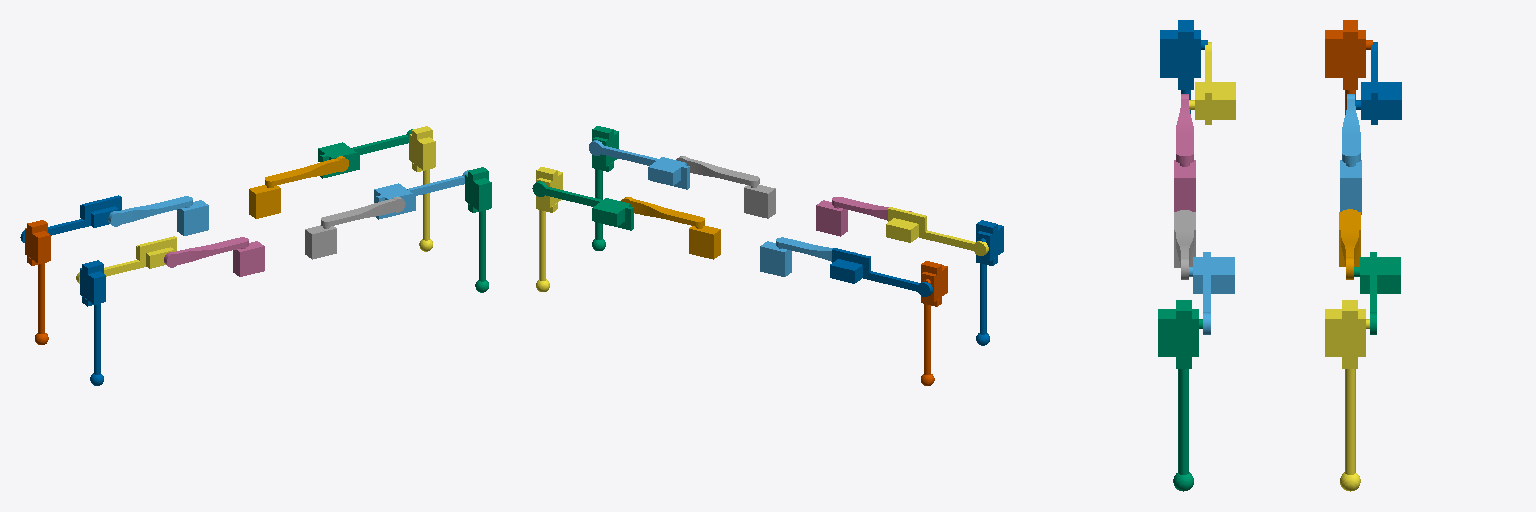
The robot description file, URDF, robot "simple_model":
<?xml version="1.0" ?>
<robot name="simple_model">
  <joint name="link_0_JOINT_0" type="revolute">
    <parent link="link_0"/>
    <child link="link_1"/>
    <origin rpy="0 0 0" xyz="-6.02396  8.00498  0.26813"/>
    <axis xyz="0 0 1"/>
    <limit effort="100" lower="-3.14" upper="3.14" velocity="10"/>
  </joint>
  <joint name="link_0_JOINT_1" type="revolute">
    <parent link="link_0"/>
    <child link="link_2"/>
    <origin rpy="0 0 0" xyz="-6.02396 -7.89767  0.26813"/>
    <axis xyz="0 0 1"/>
    <limit effort="100" lower="-3.14" upper="3.14" velocity="10"/>
  </joint>
  <joint name="link_0_JOINT_2" type="revolute">
    <parent link="link_0"/>
    <child link="link_3"/>
    <origin rpy="0      0      3.14159" xyz="6.11662 -8.17006  0.26813"/>
    <axis xyz="0 0 1"/>
    <limit effort="100" lower="-3.14" upper="3.14" velocity="10"/>
  </joint>
  <joint name="link_0_JOINT_3" type="revolute">
    <parent link="link_0"/>
    <child link="link_4"/>
    <origin rpy="0      0      3.14159" xyz="5.98377 7.60991 0.26813"/>
    <axis xyz="0 0 1"/>
    <limit effort="100" lower="-3.14" upper="3.14" velocity="10"/>
  </joint>
  <joint name="link_1_JOINT_8" type="revolute">
    <parent link="link_1"/>
    <child link="link_9"/>
    <origin rpy="-3.14159  0       0" xyz="-12.63634   0.14188  -0.20719"/>
    <axis xyz="0 -1  0"/>
    <limit effort="100" lower="-3.14" upper="3.14" velocity="10"/>
  </joint>
  <joint name="link_2_JOINT_7" type="revolute">
    <parent link="link_2"/>
    <child link="link_8"/>
    <origin rpy="3.14159 0      0" xyz="-12.64054   0.16412  -0.2072"/>
    <axis xyz="0 -1  0"/>
    <limit effort="100" lower="-3.14" upper="3.14" velocity="10"/>
  </joint>
  <joint name="link_3_JOINT_5" type="revolute">
    <parent link="link_3"/>
    <child link="link_6"/>
    <origin rpy="0 0 0" xyz="-12.49537  -0.30965  -0.2808"/>
    <axis xyz="0 -1  0"/>
    <limit effort="100" lower="-3.14" upper="3.14" velocity="10"/>
  </joint>
  <joint name="link_4_JOINT_6" type="revolute">
    <parent link="link_4"/>
    <child link="link_7"/>
    <origin rpy="0 0 0" xyz="-12.62812  -0.4691   -0.2808"/>
    <axis xyz="0 -1  0"/>
    <limit effort="100" lower="-3.14" upper="3.14" velocity="10"/>
  </joint>
  <joint name="link_6_JOINT_9" type="revolute">
    <parent link="link_6"/>
    <child link="link_10"/>
    <origin rpy="0 0 0" xyz="-11.8539    1.92304   0.53369"/>
    <axis xyz="0 -1  0"/>
    <limit effort="100" lower="-3.14" upper="3.14" velocity="10"/>
  </joint>
  <joint name="link_7_JOINT_10" type="revolute">
    <parent link="link_7"/>
    <child link="link_11"/>
    <origin rpy="0 0 0" xyz="-11.854     1.92603   0.53369"/>
    <axis xyz="0 -1  0"/>
    <limit effort="100" lower="-3.14" upper="3.14" velocity="10"/>
  </joint>
  <joint name="link_8_JOINT_12" type="revolute">
    <parent link="link_8"/>
    <child link="link_12"/>
    <origin rpy="3.14159 0      3.14159" xyz="-14.0618    1.84878  -0.46009"/>
    <axis xyz="0 -1  0"/>
    <limit effort="100" lower="-3.14" upper="3.14" velocity="10"/>
  </joint>
  <joint name="link_9_JOINT_11" type="revolute">
    <parent link="link_9"/>
    <child link="link_13"/>
    <origin rpy="-3.14159  0       3.14159" xyz="-14.066     1.96218  -0.46009"/>
    <axis xyz="0 -1  0"/>
    <limit effort="100" lower="-3.14" upper="3.14" velocity="10"/>
  </joint>
  <link name="link_0">
    <inertial>
      <mass value="4683.04"/>
      <origin rpy="0 0 0" xyz="0 0 0"/>
      <inertia ixx="3622.8453" ixy="0" ixz="0" iyy="1545.1328" iyz="0" izz="4807.0712"/>
    </inertial>
    <collision name="collision">
      <origin rpy="0 0 0" xyz="0.04839 -0.23584 17.5"/>
      <geometry>
        <mesh filename="../my_robot/main_body.dae"/>
      </geometry>
    </collision>
    <visual name="visual">
      <origin rpy="0 0 0" xyz="0.04839 -0.23584 -1.16887"/>
      <geometry>
        <mesh filename="../my_robot/main_body.dae"/>
      </geometry>
    </visual>
  </link>
  <link name="link_1">
    <inertial>
      <mass value="235.864554"/>
      <origin rpy="0 0 0" xyz="0 0 0"/>
      <inertia ixx="7.6912" ixy="0" ixz="0" iyy="55.3137" iyz="0" izz="49.27456"/>
    </inertial>
    <collision name="collision">
      <origin rpy="0 0 0" xyz="0 0 0"/>
      <geometry>
        <mesh filename="../my_robot/r_arm.dae"/>
      </geometry>
    </collision>
    <visual name="visual">
      <origin rpy="0 0 0" xyz="0 0 0"/>
      <geometry>
        <mesh filename="../my_robot/r_arm.dae"/>
      </geometry>
    </visual>
  </link>
  <link name="link_10">
    <inertial>
      <mass value="324.9792"/>
      <origin rpy="0 0 0" xyz="0 0 0"/>
      <inertia ixx="105.44" ixy="0" ixz="0" iyy="102.27" iyz="0" izz="8.04"/>
    </inertial>
    <collision name="collision">
      <origin rpy="0 0 0" xyz="0 0 0"/>
      <geometry>
        <mesh filename="../my_robot/r_hand.dae" scale="1 1 1"/>
      </geometry>
    </collision>
    <visual name="visual">
      <origin rpy="0 0 0" xyz="0 0 0"/>
      <geometry>
        <mesh filename="../my_robot/r_hand.dae" scale="1 1 1"/>
      </geometry>
    </visual>
  </link>
  <link name="link_11">
    <inertial>
      <mass value="324.9792"/>
      <origin rpy="0 0 0" xyz="0 0 0"/>
      <inertia ixx="105.44" ixy="0" ixz="0" iyy="102.27" iyz="0" izz="8.04"/>
    </inertial>
    <collision name="collision">
      <origin rpy="0 0 0" xyz="0 0 0"/>
      <geometry>
        <mesh filename="../my_robot/r_hand.dae" scale="1 1 1"/>
      </geometry>
    </collision>
    <visual name="visual">
      <origin rpy="0 0 0" xyz="0 0 0"/>
      <geometry>
        <mesh filename="../my_robot/r_hand.dae" scale="1 1 1"/>
      </geometry>
    </visual>
  </link>
  <link name="link_12">
    <inertial>
      <mass value="324.9792"/>
      <origin rpy="0 0 0" xyz="0 0 0"/>
      <inertia ixx="105.44" ixy="0" ixz="0" iyy="102.27" iyz="0" izz="8.04"/>
    </inertial>
    <collision name="collision">
      <origin rpy="0 0 0" xyz="0 0 0"/>
      <geometry>
        <mesh filename="../my_robot/r_hand.dae" scale="1 1 1"/>
      </geometry>
    </collision>
    <visual name="visual">
      <origin rpy="0 0 0" xyz="0 0 0"/>
      <geometry>
        <mesh filename="../my_robot/r_hand.dae" scale="1 1 1"/>
      </geometry>
    </visual>
  </link>
  <link name="link_13">
    <inertial>
      <mass value="324.9792"/>
      <origin rpy="0 0 0" xyz="0 0 0"/>
      <inertia ixx="105.44" ixy="0" ixz="0" iyy="102.27" iyz="0" izz="8.04"/>
    </inertial>
    <collision name="collision">
      <origin rpy="0 0 0" xyz="0 0 0"/>
      <geometry>
        <mesh filename="../my_robot/r_hand.dae" scale="1 1 1"/>
      </geometry>
    </collision>
    <visual name="visual">
      <origin rpy="0 0 0" xyz="0 0 0"/>
      <geometry>
        <mesh filename="../my_robot/r_hand.dae" scale="1 1 1"/>
      </geometry>
    </visual>
  </link>
  <link name="link_2">
    <inertial>
      <mass value="235.864554"/>
      <origin rpy="0 0 0" xyz="0 0 0"/>
      <inertia ixx="7.6912" ixy="0" ixz="0" iyy="55.3137" iyz="0" izz="49.27456"/>
    </inertial>
    <collision name="collision">
      <origin rpy="0 0 0" xyz="0 0 0"/>
      <geometry>
        <mesh filename="../my_robot/r_arm.dae" scale="1 1 1"/>
      </geometry>
    </collision>
    <visual name="visual">
      <origin rpy="0 0 0" xyz="0 0 0"/>
      <geometry>
        <mesh filename="../my_robot/r_arm.dae" scale="1 1 1"/>
      </geometry>
    </visual>
  </link>
  <link name="link_3">
    <inertial>
      <mass value="235.864554"/>
      <origin rpy="0 0 0" xyz="0 0 0"/>
      <inertia ixx="7.6912" ixy="0" ixz="0" iyy="55.3137" iyz="0" izz="49.27456"/>
    </inertial>
    <collision name="collision">
      <origin rpy="0 0 0" xyz="0 0 0"/>
      <geometry>
        <mesh filename="../my_robot/r_arm.dae" scale="1 1 1"/>
      </geometry>
    </collision>
    <visual name="visual">
      <origin rpy="0 0 0" xyz="0 0 0"/>
      <geometry>
        <mesh filename="../my_robot/r_arm.dae" scale="1 1 1"/>
      </geometry>
    </visual>
  </link>
  <link name="link_4">
    <inertial>
      <mass value="235.864554"/>
      <origin rpy="0 0 0" xyz="0 0 0"/>
      <inertia ixx="7.6912" ixy="0" ixz="0" iyy="55.3137" iyz="0" izz="49.27456"/>
    </inertial>
    <collision name="collision">
      <origin rpy="0 0 0" xyz="0 0 0"/>
      <geometry>
        <mesh filename="../my_robot/r_arm.dae" scale="1 1 1"/>
      </geometry>
    </collision>
    <visual name="visual">
      <origin rpy="0 0 0" xyz="0 0 0"/>
      <geometry>
        <mesh filename="../my_robot/r_arm.dae" scale="1 1 1"/>
      </geometry>
    </visual>
  </link>
  <link name="link_6">
    <inertial>
      <mass value="361.94"/>
      <origin rpy="0 0 0" xyz="0 0 0"/>
      <inertia ixx="10.974" ixy="0" ixz="0" iyy="83.88" iyz="0" izz="85.4"/>
    </inertial>
    <collision name="collision">
      <origin rpy="0 0 0" xyz="0 0 0"/>
      <geometry>
        <mesh filename="../my_robot/FINA;L.dae" scale="1 1 1"/>
      </geometry>
    </collision>
    <visual name="visual">
      <origin rpy="0 0 0" xyz="0 0 0"/>
      <geometry>
        <mesh filename="../my_robot/FINA;L.dae" scale="1 1 1"/>
      </geometry>
    </visual>
  </link>
  <link name="link_7">
    <inertial>
      <mass value="361.94"/>
      <origin rpy="0 0 0" xyz="0 0 0"/>
      <inertia ixx="10.974" ixy="0" ixz="0" iyy="83.88" iyz="0" izz="85.4"/>
    </inertial>
    <collision name="collision">
      <origin rpy="0 0 0" xyz="0 0 0"/>
      <geometry>
        <mesh filename="./src/robo_pkg/src/FINA;L.dae" scale="1 1 1"/>
      </geometry>
    </collision>
    <visual name="visual">
      <origin rpy="0 0 0" xyz="0 0 0"/>
      <geometry>
        <mesh filename="./src/robo_pkg/src/FINA;L.dae" scale="1 1 1"/>
      </geometry>
    </visual>
  </link>
  <link name="link_8">
    <inertial>
      <mass value="361.94"/>
      <origin rpy="0 0 0" xyz="0 0 0"/>
      <inertia ixx="10.974" ixy="0" ixz="0" iyy="83.88" iyz="0" izz="85.4"/>
    </inertial>
    <collision name="collision">
      <origin rpy="0 0 0" xyz="0 0 0"/>
      <geometry>
        <mesh filename="./src/robo_pkg/src/FINA;L.dae" scale="1 1 1"/>
      </geometry>
    </collision>
    <visual name="visual">
      <origin rpy="0 0 0" xyz="0 0 0"/>
      <geometry>
        <mesh filename="./src/robo_pkg/src/FINA;L.dae" scale="1 1 1"/>
      </geometry>
    </visual>
  </link>
  <link name="link_9">
    <inertial>
      <mass value="361.94"/>
      <origin rpy="0 0 0" xyz="0 0 0"/>
      <inertia ixx="10.974" ixy="0" ixz="0" iyy="83.88" iyz="0" izz="85.4"/>
    </inertial>
    <collision name="collision">
      <origin rpy="0 0 0" xyz="0 0 0"/>
      <geometry>
        <mesh filename="./src/robo_pkg/src/FINA;L.dae" scale="1 1 1"/>
      </geometry>
    </collision>
    <visual name="visual">
      <origin rpy="0 0 0" xyz="0 0 0"/>
      <geometry>
        <mesh filename="./src/robo_pkg/src/FINA;L.dae" scale="1 1 1"/>
      </geometry>
    </visual>
  </link>
  <gazebo>
      <plugin name="gazebo_ros_control" filename="libgazebo_ros_control.so">
      	<robotNamespace>/simple_model</robotNamespace>
      </plugin>
  </gazebo>
  
  <transmission name="link_2_JOINT_7_trans">
    	<type>transmission_interface/SimpleTransmission</type>
    	<actuator name="motor2">
        	<mechanicalReduction>1</mechanicalReduction>
    	</actuator>
    	<joint name="link_2_JOINT_7">
      		<hardwareInterface>hardware_interface/EffortJointInterface</hardwareInterface>
    	</joint>
  </transmission>
    

  <transmission name="link_3_JOINT_5_trans">
    	<type>transmission_interface/SimpleTransmission</type>
    	<actuator name="motor3">
        	<mechanicalReduction>1</mechanicalReduction>
    	</actuator>
    	<joint name="link_3_JOINT_5">
      		<hardwareInterface>hardware_interface/EffortJointInterface</hardwareInterface>
    	</joint>
  </transmission>
    
  <transmission name="link_4_JOINT_6_trans">
    	<type>transmission_interface/SimpleTransmission</type>
    	<actuator name="motor4">
        	<mechanicalReduction>1</mechanicalReduction>
    	</actuator>
    	<joint name="link_4_JOINT_6">
      		<hardwareInterface>hardware_interface/EffortJointInterface</hardwareInterface>
    	</joint>
  </transmission>
 
  <transmission name="link_6_JOINT_9_trans">
    	<type>transmission_interface/SimpleTransmission</type>
    	<actuator name="motor5">
        	<mechanicalReduction>1</mechanicalReduction>
    	</actuator>
    	<joint name="link_6_JOINT_9">
      		<hardwareInterface>hardware_interface/EffortJointInterface</hardwareInterface>
    	</joint>
  </transmission>


  <transmission name="link_7_JOINT_10_trans">
    	<type>transmission_interface/SimpleTransmission</type>
    	<actuator name="motor6">
        	<mechanicalReduction>1</mechanicalReduction>
    	</actuator>
    	<joint name="link_7_JOINT_10">
      		<hardwareInterface>hardware_interface/EffortJointInterface</hardwareInterface>
    	</joint>
  </transmission>


  <transmission name="link_0_JOINT_1_trans">
    	<type>transmission_interface/SimpleTransmission</type>
    	<actuator name="motor7">
        	<mechanicalReduction>1</mechanicalReduction>
    	</actuator>
    	<joint name="link_0_JOINT_1">
      		<hardwareInterface>hardware_interface/EffortJointInterface</hardwareInterface>
    	</joint>
  </transmission>

  <transmission name="link_9_JOINT_11_trans">
    	<type>transmission_interface/SimpleTransmission</type>
    	<actuator name="motor8">
        	<mechanicalReduction>1</mechanicalReduction>
    	</actuator>
    	<joint name="link_9_JOINT_11">
      		<hardwareInterface>hardware_interface/EffortJointInterface</hardwareInterface>
    	</joint>
  </transmission>

  <transmission name="link_0_JOINT_2_trans">
    	<type>transmission_interface/SimpleTransmission</type>
    	<actuator name="motor9">
        	<mechanicalReduction>1</mechanicalReduction>
    	</actuator>
    	<joint name="link_0_JOINT_2">
      		<hardwareInterface>hardware_interface/EffortJointInterface</hardwareInterface>
    	</joint>
  </transmission>


  <transmission name="link_0_JOINT_3_trans">
    	<type>transmission_interface/SimpleTransmission</type>
    	<actuator name="motor10">
        	<mechanicalReduction>1</mechanicalReduction>
    	</actuator>
    	<joint name="link_0_JOINT_3">
      		<hardwareInterface>hardware_interface/EffortJointInterface</hardwareInterface>
    	</joint>
  </transmission>


  <transmission name="link_1_JOINT_8_trans">
    	<type>transmission_interface/SimpleTransmission</type>
    	<actuator name="motor11">
        	<mechanicalReduction>1</mechanicalReduction>
    	</actuator>
    	<joint name="link_1_JOINT_8">
      		<hardwareInterface>hardware_interface/EffortJointInterface</hardwareInterface>
    	</joint>
  </transmission>
  
  <transmission name="link_8_JOINT_12_trans">
    	<type>transmission_interface/SimpleTransmission</type>
    	<actuator name="motor11">
        	<mechanicalReduction>1</mechanicalReduction>
    	</actuator>
    	<joint name="link_8_JOINT_12">
      		<hardwareInterface>hardware_interface/EffortJointInterface</hardwareInterface>
    	</joint>
  </transmission>  
    
    
</robot>

--- Render facts (derived) ---
The picture shows the robot from 3 angles, left to right: view 1: azimuth 30°, elevation 25°; view 2: azimuth 150°, elevation 25°; view 3: azimuth 270°, elevation 25°; orthographic projection.
Model simple_model with 13 links and 12 joints (12 revolute), rooted at link_0, posed every joint at zero.
Visible links, largest first — view 1: link_3, link_4, link_1, link_2, link_10, link_12, link_13, link_11, link_9, link_7, link_6, link_8; view 2: link_4, link_3, link_9, link_8, link_7, link_6, link_12, link_1, link_2, link_13, link_11, link_10; view 3: link_10, link_11, link_13, link_12, link_1, link_2, link_6, link_8, link_9, link_7, link_4, link_3.
Link boxes in pixels (bbox=[...]): link_3: bbox=[305, 196, 405, 259]; link_4: bbox=[249, 156, 348, 218]; link_1: bbox=[108, 196, 208, 235]; link_2: bbox=[164, 237, 264, 276]; link_10: bbox=[465, 167, 491, 292]; link_12: bbox=[80, 260, 105, 385]; link_13: bbox=[25, 220, 50, 344]; link_11: bbox=[409, 126, 435, 251]; link_9: bbox=[20, 195, 121, 242]; link_7: bbox=[318, 129, 412, 178]; link_6: bbox=[374, 170, 468, 219]; link_8: bbox=[76, 236, 176, 283]; link_4: bbox=[621, 197, 720, 259]; link_3: bbox=[676, 156, 775, 218]; link_9: bbox=[830, 248, 932, 296]; link_8: bbox=[886, 207, 988, 255]; link_7: bbox=[532, 181, 633, 230]; link_6: bbox=[589, 140, 689, 189]; link_12: bbox=[976, 220, 1003, 345]; link_1: bbox=[760, 237, 855, 276]; link_2: bbox=[816, 197, 911, 236]; link_13: bbox=[921, 261, 947, 385]; link_11: bbox=[536, 167, 562, 291]; link_10: bbox=[592, 126, 618, 250]; link_10: bbox=[1158, 300, 1202, 491]; link_11: bbox=[1325, 300, 1369, 491]; link_13: bbox=[1325, 20, 1372, 114]; link_12: bbox=[1160, 20, 1207, 113]; link_1: bbox=[1340, 94, 1361, 214]; link_2: bbox=[1174, 94, 1195, 211]; link_6: bbox=[1189, 252, 1234, 334]; link_8: bbox=[1189, 42, 1235, 124]; link_9: bbox=[1355, 42, 1401, 124]; link_7: bbox=[1354, 252, 1400, 334]; link_4: bbox=[1339, 209, 1360, 279]; link_3: bbox=[1174, 210, 1195, 279].
Size in the robot's own frame: 66.19 by 23.32 by 19.2 metres.
Meshes: 5 distinct files referenced, 12 mesh visuals loaded (3 Collada DAE); not drawn: 1 (reference not matched to a file when rendering).